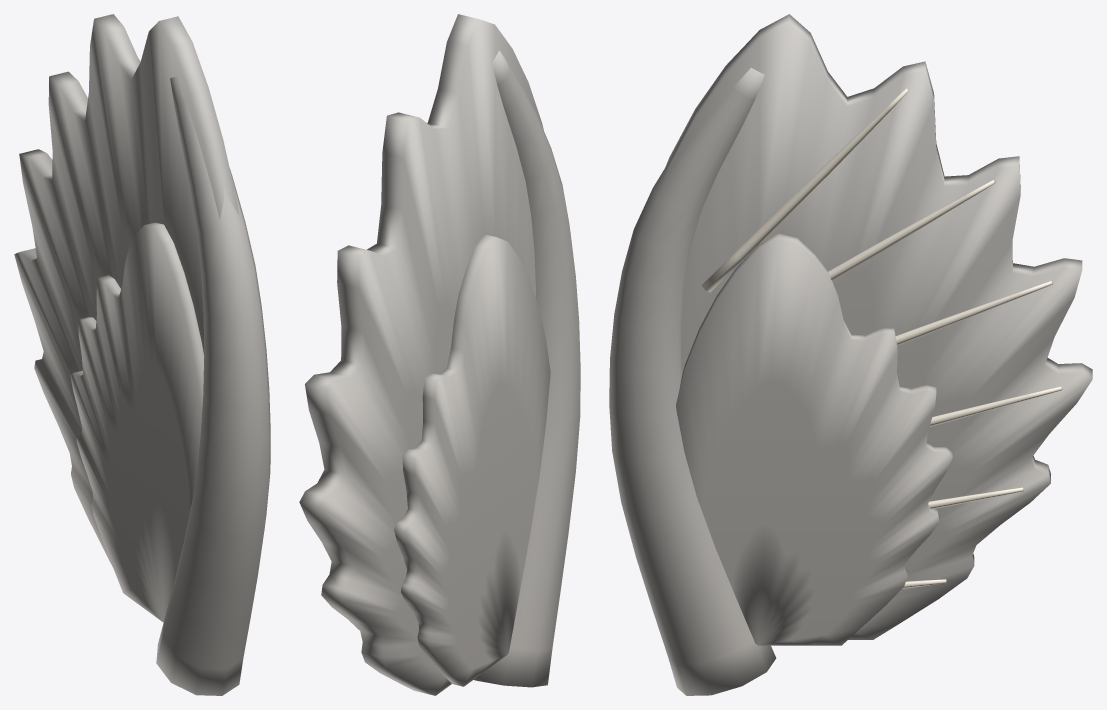
The model's file is part_wing_feather.glb.
The picture shows the model from 3 angles, left to right: view 1: azimuth 30°, elevation 25°; view 2: azimuth 150°, elevation 25°; view 3: azimuth 270°, elevation 25°; orthographic projection. The views are drawn at different scales.
Visible parts, largest first — view 1: flap.001_painted_mesh.001; view 2: flap.001_painted_mesh.001; view 3: flap.001_painted_mesh.001.
Boxes of the visible parts, left/top/right/bottom form: flap.001_painted_mesh.001: left=14, top=14, right=270, bottom=695; flap.001_painted_mesh.001: left=299, top=14, right=580, bottom=695; flap.001_painted_mesh.001: left=609, top=14, right=1092, bottom=695.
Bounding box in the file's own units: 0.1617 × 1.41 × 0.9247.
